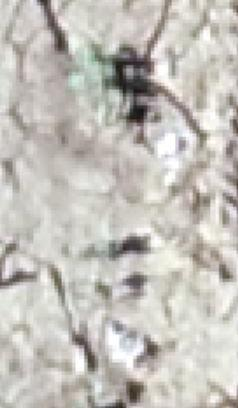cotton: (92, 68, 115, 93), (82, 50, 108, 71), (108, 242, 116, 260)
